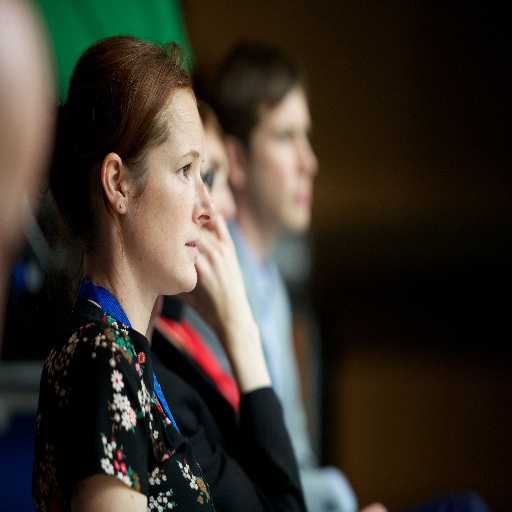hand: (190, 229, 256, 384)
